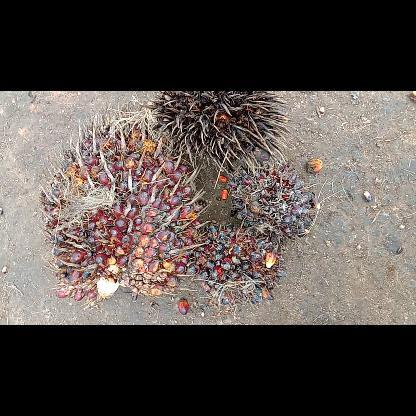Janjang kosong: (137, 90, 295, 178)
TBS abnormal: (186, 218, 289, 308), (224, 160, 322, 242)
TBS masak: (36, 106, 209, 310)
